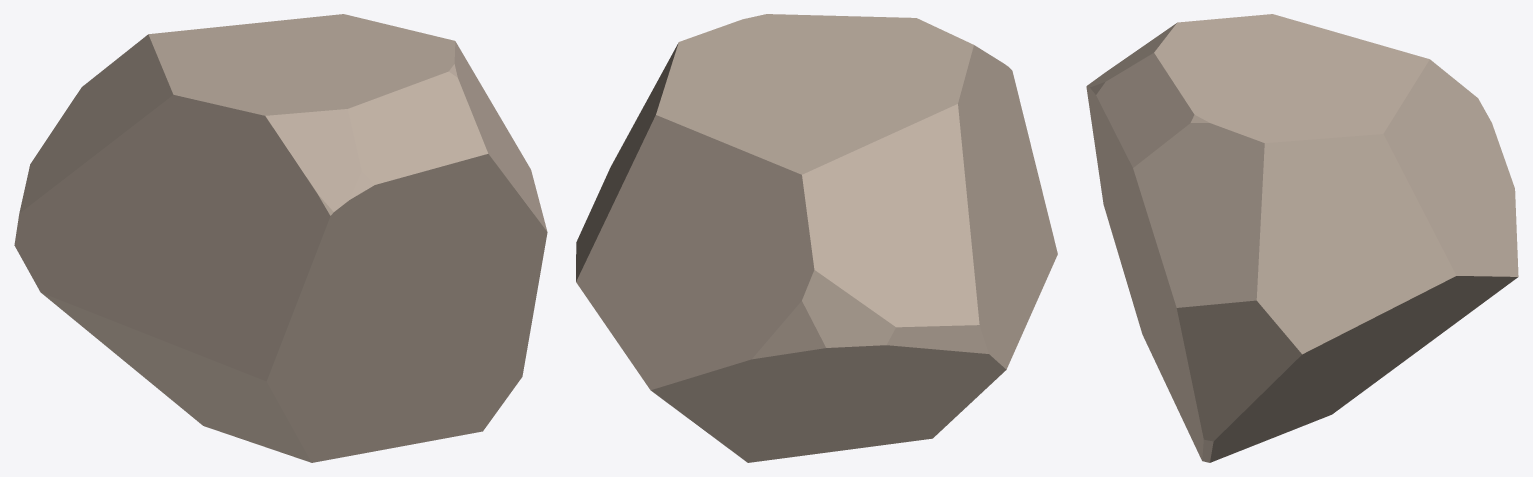
Rendered from ForestRock2.glb.
3 views of the same model, side by side, from view 1: azimuth 30°, elevation 25°; view 2: azimuth 150°, elevation 25°; view 3: azimuth 270°, elevation 25° (orthographic). The views are drawn at different scales.
Parts seen in each view (by area): view 1: ForestRock2; view 2: ForestRock2; view 3: ForestRock2.
Part boxes in pixels (x1,y1,x2,y2): ForestRock2: (14, 14, 547, 462); ForestRock2: (576, 14, 1057, 462); ForestRock2: (1086, 14, 1518, 462).
Bounding box in the file's own units: 2.18 × 1.77 × 2.04.
